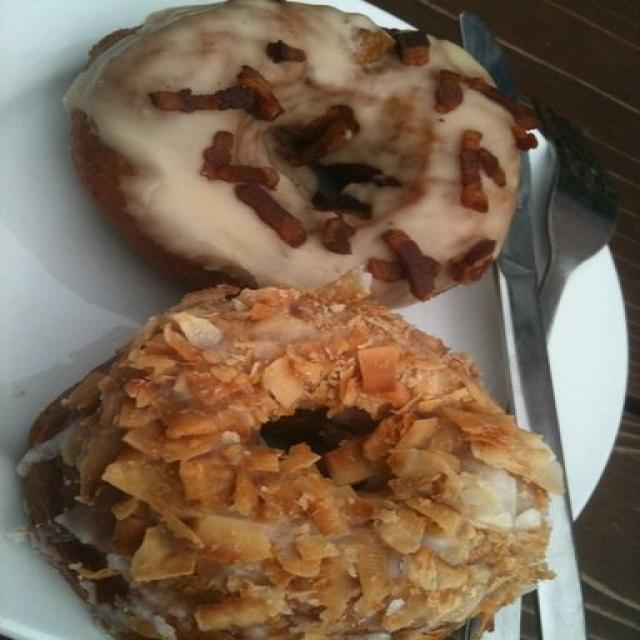Donuts: (23, 5, 619, 640)
